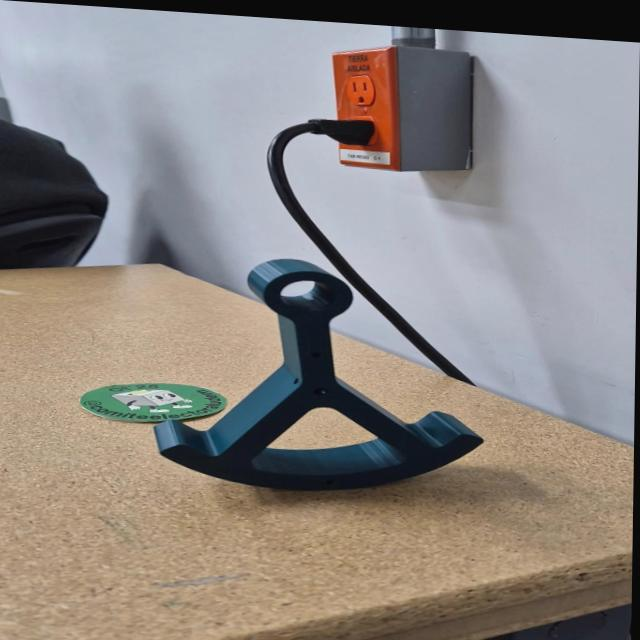haptic: (150, 248, 489, 505)
